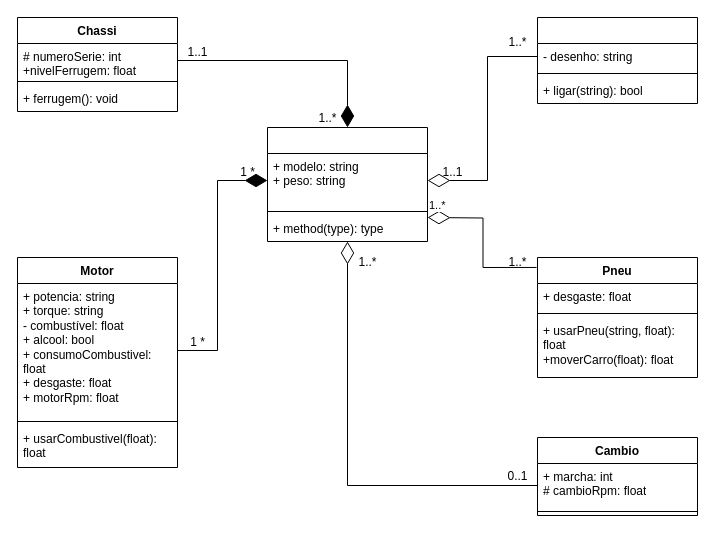
The diagram is 715 pixels wide and 533 high, and some of its shapes have lost their labels. Here are the shapes that lost their labels. From the top down, the box of each, then its label:
(536, 16, 698, 104): Chave
(266, 126, 428, 242): Carro
